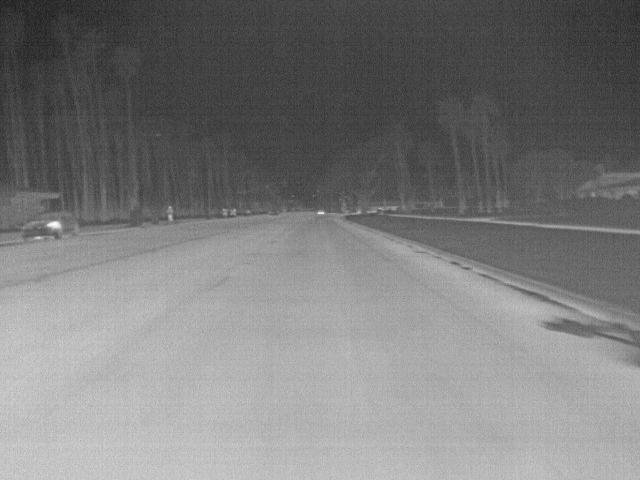car: (19, 209, 79, 243)
person: (165, 204, 175, 222)
